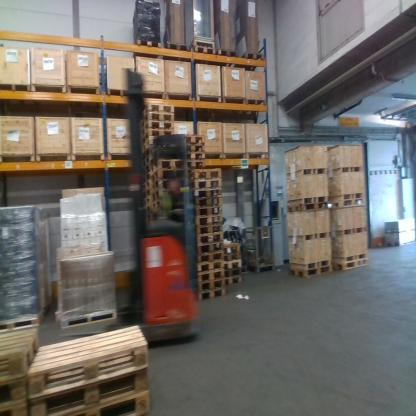forklift: (101, 67, 206, 351)
pallet: (29, 322, 148, 404), (34, 363, 144, 415), (2, 327, 38, 384), (97, 392, 152, 415), (2, 373, 36, 405), (134, 33, 163, 61), (162, 32, 189, 62), (151, 155, 185, 178), (139, 102, 176, 122), (141, 120, 178, 140), (137, 113, 177, 131), (140, 129, 174, 150), (152, 165, 186, 184), (287, 197, 329, 212), (290, 263, 332, 277), (238, 48, 263, 71), (331, 200, 366, 216), (194, 241, 224, 258), (192, 41, 215, 62), (197, 260, 225, 277), (216, 44, 235, 69), (332, 263, 370, 275), (188, 180, 224, 191), (198, 289, 225, 303), (189, 168, 222, 179), (196, 270, 226, 282), (195, 253, 224, 264), (198, 225, 224, 237), (190, 189, 223, 198), (199, 280, 226, 291), (195, 216, 224, 226), (195, 206, 223, 216), (197, 235, 225, 245), (1, 408, 33, 416), (150, 191, 168, 205), (191, 198, 222, 206), (141, 147, 153, 166), (142, 138, 156, 154), (184, 151, 205, 161), (182, 135, 201, 144), (186, 161, 207, 169), (141, 182, 156, 193), (141, 197, 153, 210), (152, 180, 164, 192), (143, 172, 154, 185), (143, 162, 153, 176), (182, 144, 205, 150), (154, 203, 163, 216), (141, 189, 153, 198)
stillage: (242, 223, 279, 273), (222, 228, 248, 287)
